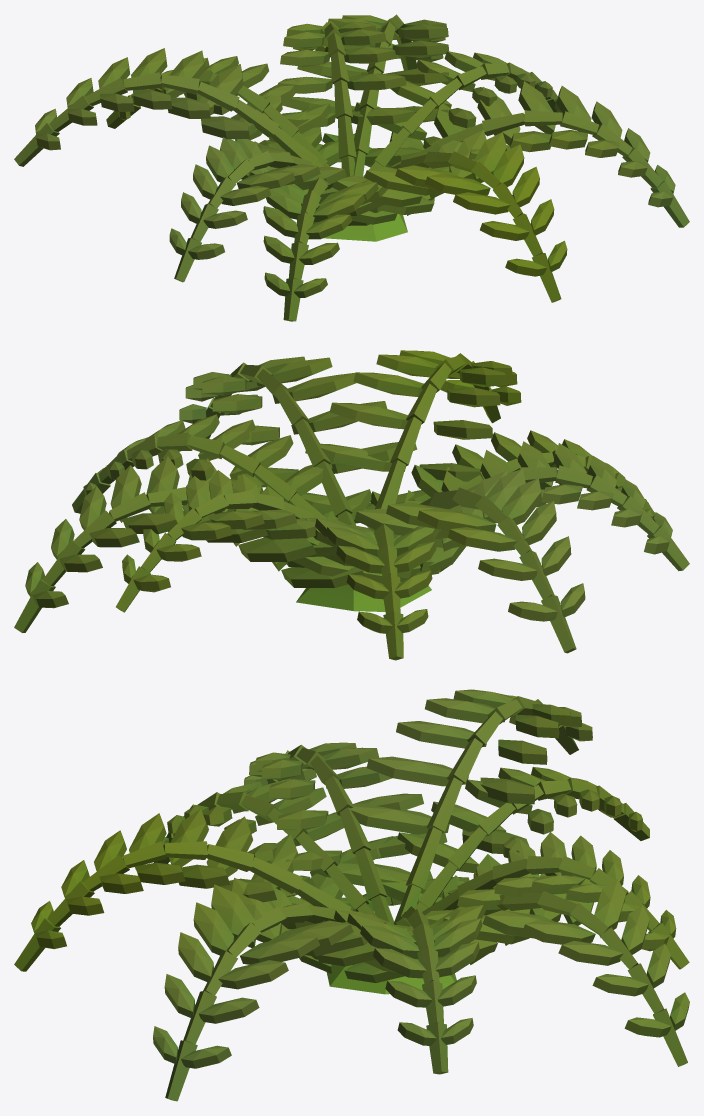
The model's file is Fern_01.glb.
3 views of the same model, one above another, from view 1: azimuth 30°, elevation 25°; view 2: azimuth 150°, elevation 25°; view 3: azimuth 270°, elevation 25° (orthographic). The views are drawn at different scales.
Parts seen in each view (by area): view 1: Fern_01; view 2: Fern_01; view 3: Fern_01.
Boxes of the visible parts, left/top/right/bottom form: Fern_01: left=14, top=14, right=689, bottom=321; Fern_01: left=14, top=350, right=689, bottom=660; Fern_01: left=14, top=689, right=689, bottom=1101.
Size of the model in its own units: 1.44 by 0.4139 by 1.43.
